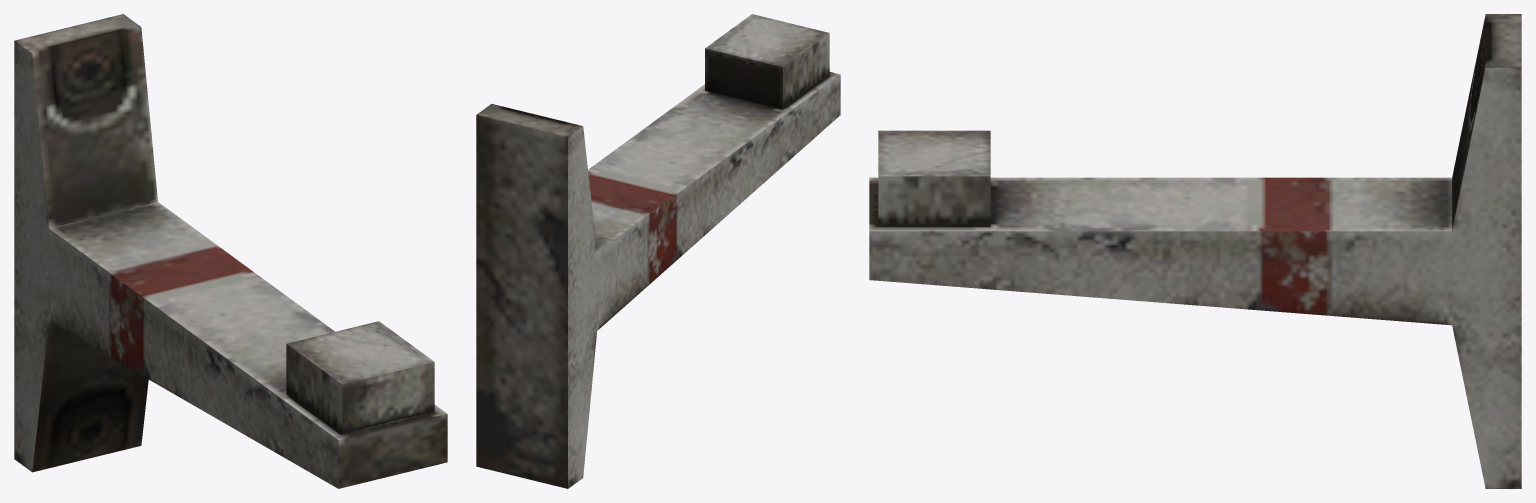
Rendered from camera_surveillance_theta_base.dae.
3 renders of one model, left to right at view 1: azimuth 30°, elevation 25°; view 2: azimuth 150°, elevation 25°; view 3: azimuth 270°, elevation 25°, orthographic. The views are drawn at different scales.
Parts seen in each view (by area): view 1: node_camera_flesher_base; view 2: node_camera_flesher_base; view 3: node_camera_flesher_base.
Boxes of the visible parts, box(x1,y1,x2,y2) form: node_camera_flesher_base: box(14, 14, 447, 488); node_camera_flesher_base: box(476, 14, 840, 488); node_camera_flesher_base: box(869, 14, 1521, 488).
Size of the model in its own units: 0.0593 by 0.2174 by 0.3051.
